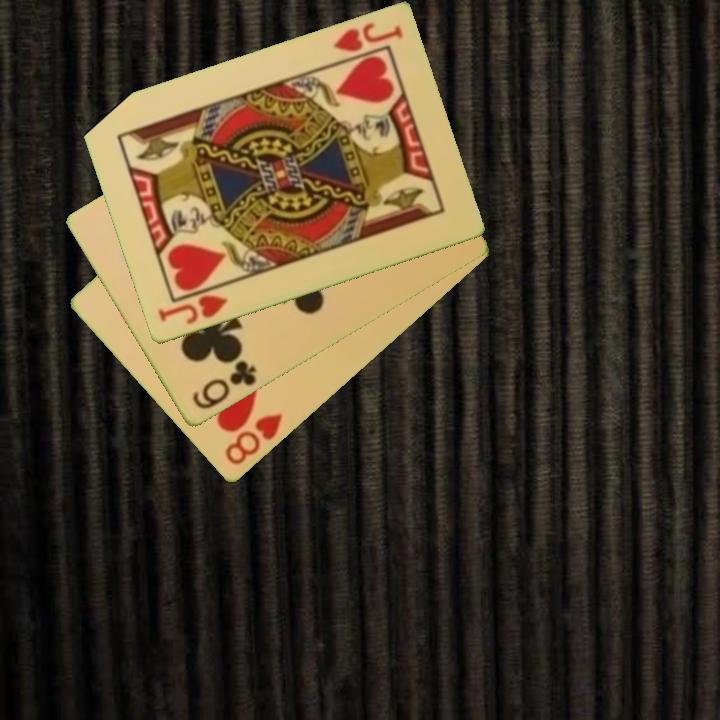6c: (188, 357, 260, 413)
8h: (221, 410, 286, 469)
Jh: (154, 281, 232, 328), (329, 19, 406, 56)
